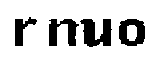n: (46, 15, 79, 51)
o: (117, 17, 148, 49)
r: (12, 17, 38, 51)
u: (82, 15, 113, 54)
